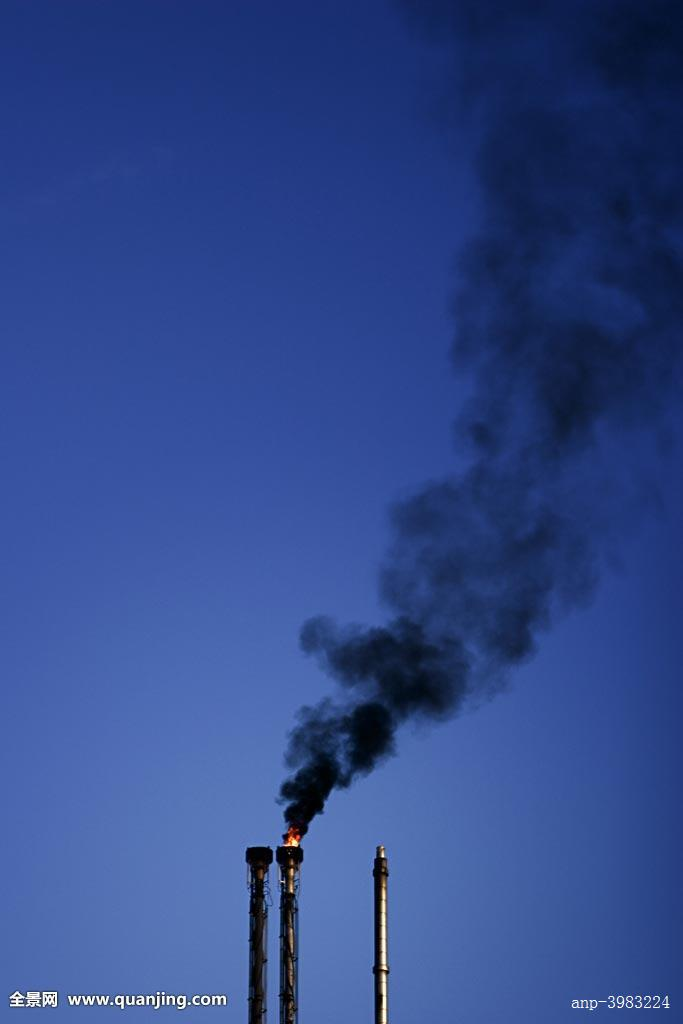dust: (270, 458, 500, 860)
